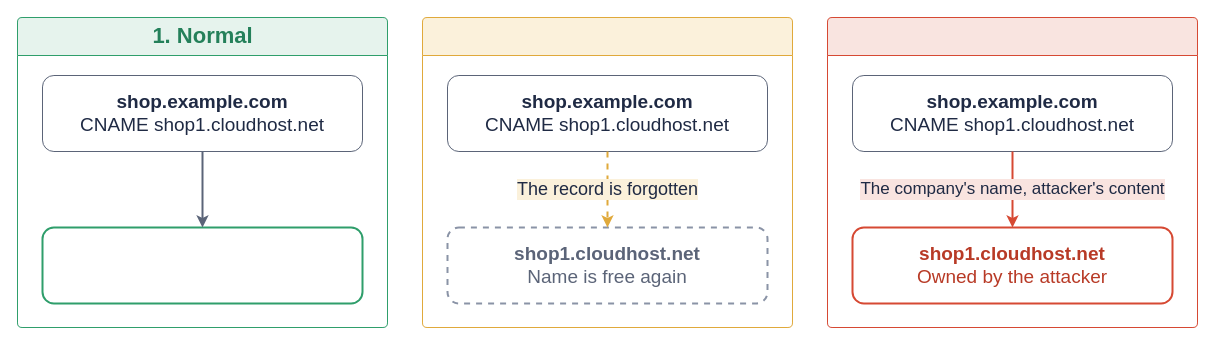
The diagram is 1215 pixels wide and 345 high, and some of its shapes have lost their labels. Each missing label, with the box of its shape:
2. Resource deleted: (422, 16, 792, 328)
3. Attacker claims the name: (826, 16, 1198, 328)
shop1.cloudhost.net Owned by the company: (41, 226, 363, 304)
